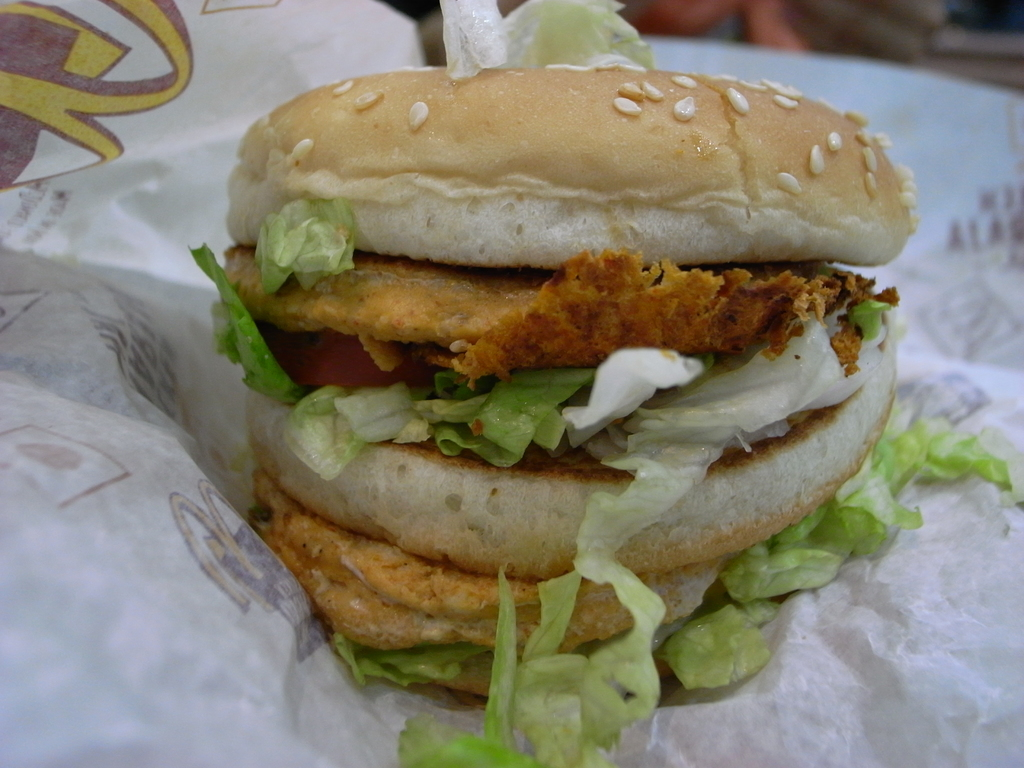Hamburger: (187, 0, 1011, 767)
